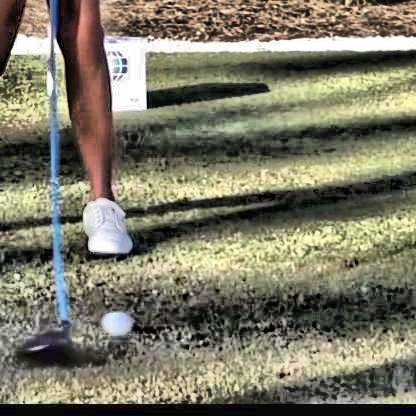golfball: (99, 308, 129, 333)
